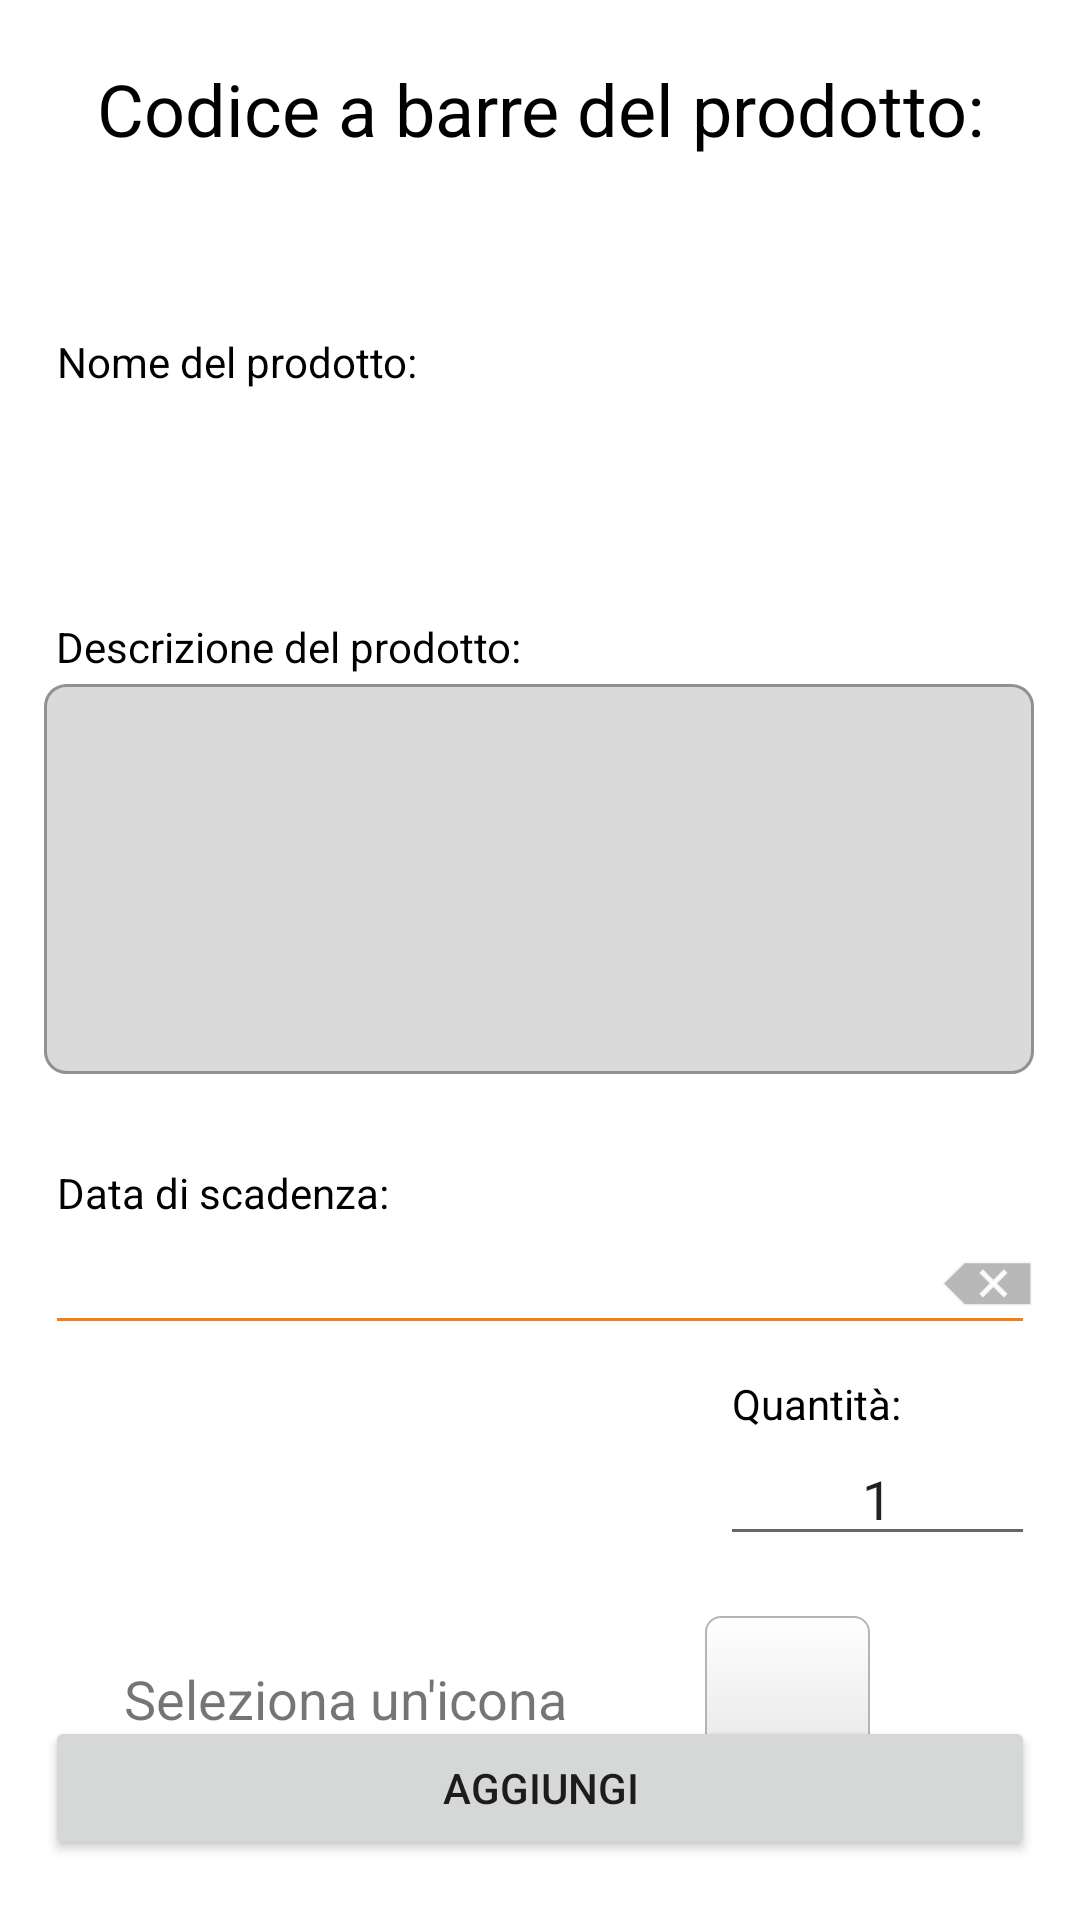

Named icons in this screenshot (1080x1920) and their centers, [x,y]:
delete: [987,1283]
